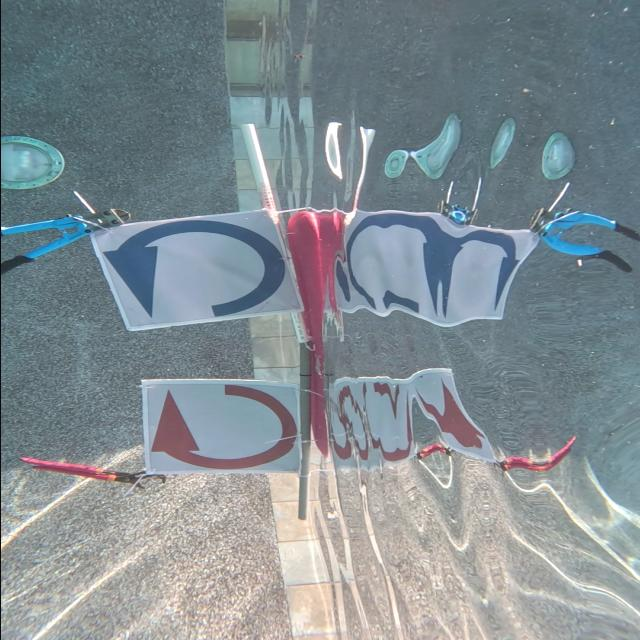blue_side: (96, 215, 300, 332)
red_side: (138, 382, 302, 473)
